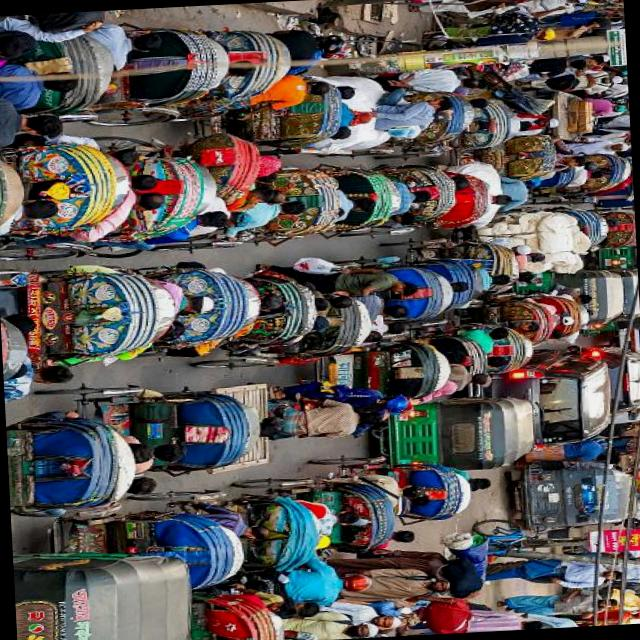motorcycle: (39, 374, 260, 480), (104, 131, 287, 252), (92, 26, 296, 126), (13, 260, 182, 376), (7, 406, 166, 520), (15, 544, 200, 640), (72, 16, 246, 118), (58, 147, 227, 250), (170, 483, 332, 579), (192, 160, 358, 250), (362, 391, 538, 475), (145, 254, 273, 357), (256, 472, 408, 556), (19, 132, 124, 245), (194, 76, 350, 149), (374, 85, 524, 157), (296, 158, 420, 240), (215, 262, 324, 355), (355, 450, 483, 528), (306, 339, 452, 406), (350, 155, 466, 237), (507, 463, 640, 534), (368, 171, 494, 237), (391, 230, 522, 292), (507, 266, 627, 327), (356, 254, 458, 324), (449, 128, 565, 183), (211, 563, 383, 600), (444, 132, 556, 184), (542, 148, 634, 198), (496, 293, 588, 338)
truck: (461, 342, 618, 458), (198, 373, 288, 478)
